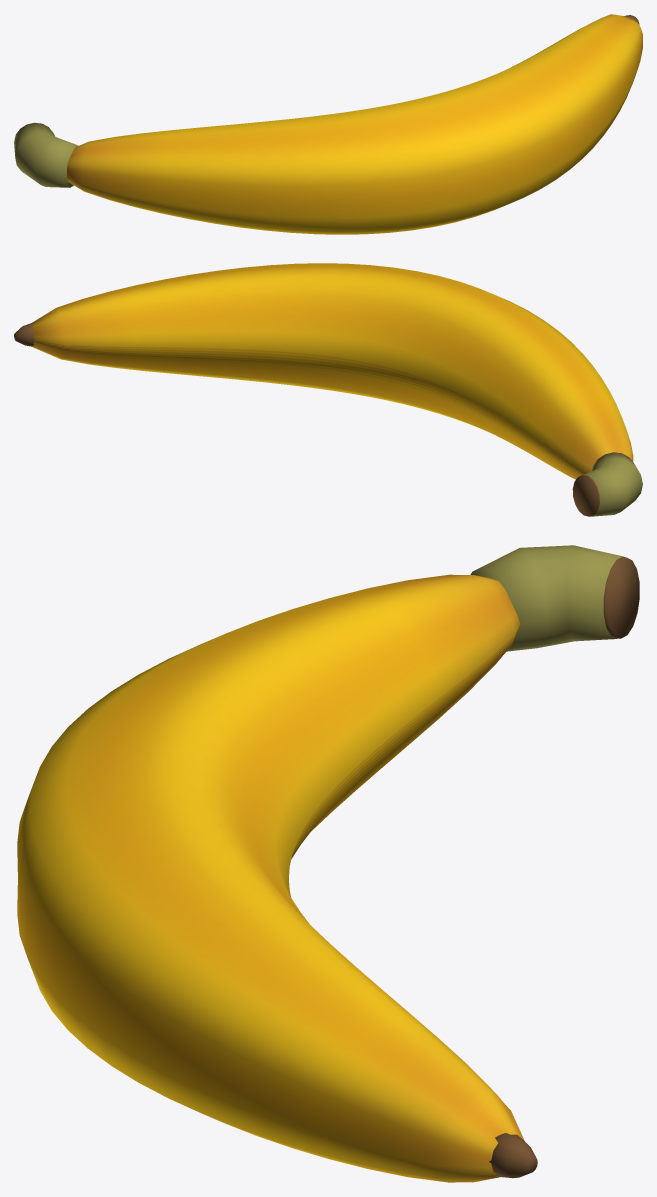
Rendered from banana.glb.
3 renders of one model, top to bottom at view 1: azimuth 30°, elevation 25°; view 2: azimuth 150°, elevation 25°; view 3: azimuth 270°, elevation 25°, orthographic. The views are drawn at different scales.
Visible parts, largest first — view 1: curved-peel, stem; view 2: curved-peel, stem, stem-cut; view 3: curved-peel, stem, stem-cut, blossom-tip.
Part boxes in pixels (left/top/right/bottom): curved-peel: left=67, top=14, right=642, bottom=234; stem: left=14, top=123, right=78, bottom=187; curved-peel: left=32, top=263, right=633, bottom=479; stem: left=584, top=452, right=642, bottom=516; stem-cut: left=572, top=474, right=599, bottom=516; curved-peel: left=17, top=574, right=524, bottom=1182; stem: left=470, top=545, right=623, bottom=651; stem-cut: left=603, top=556, right=639, bottom=638; blossom-tip: left=489, top=1133, right=537, bottom=1178.
Size of the model in its own units: 1 by 0.1783 by 0.4442.
3 materials, 1 textured.
